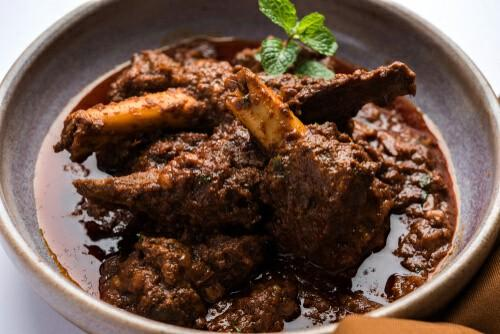MuttonCurry: (37, 35, 459, 334)
